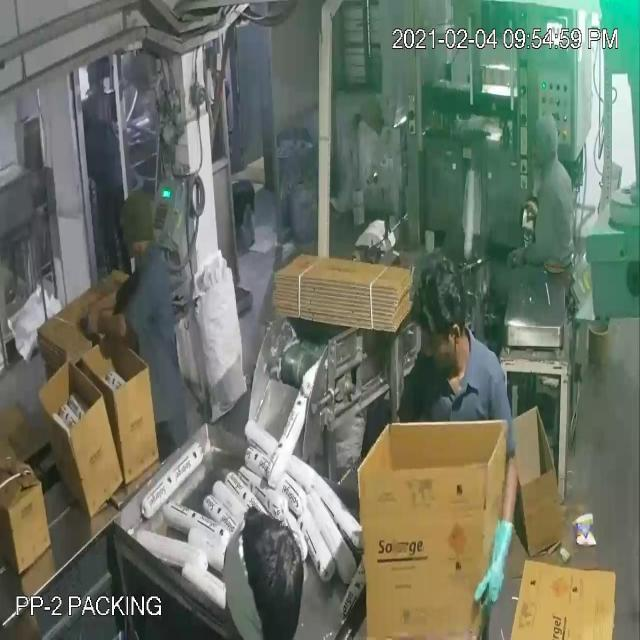No_Gloves: (56, 52, 504, 571)
